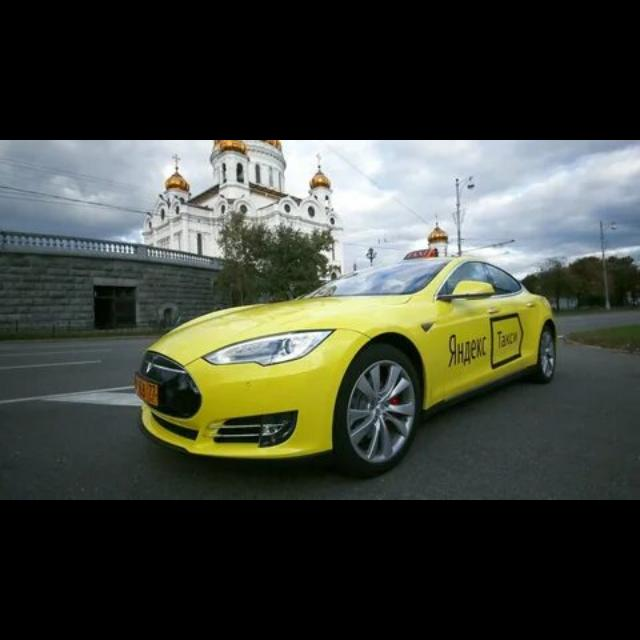taxi: (134, 254, 558, 478)
